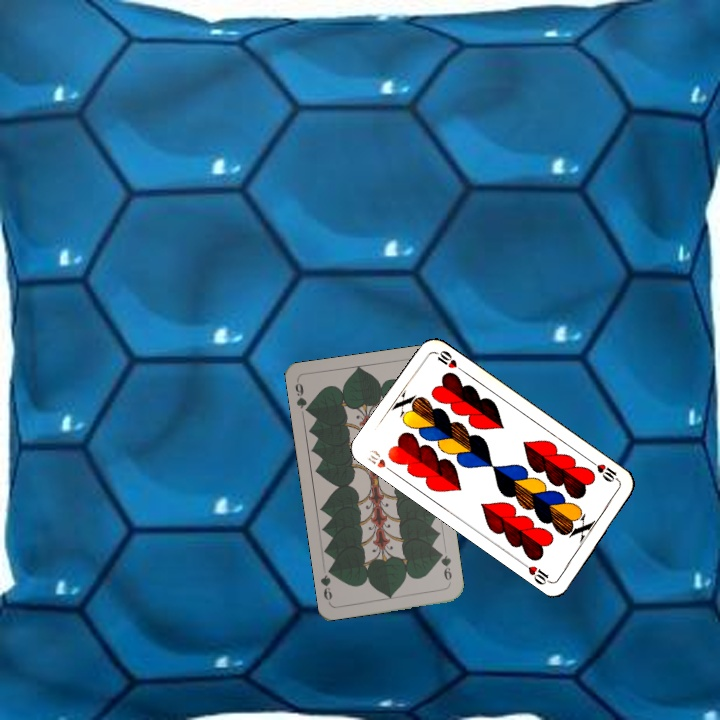G9: (291, 377, 313, 417), (435, 548, 454, 587)
H10: (364, 445, 398, 477), (587, 457, 623, 485)
